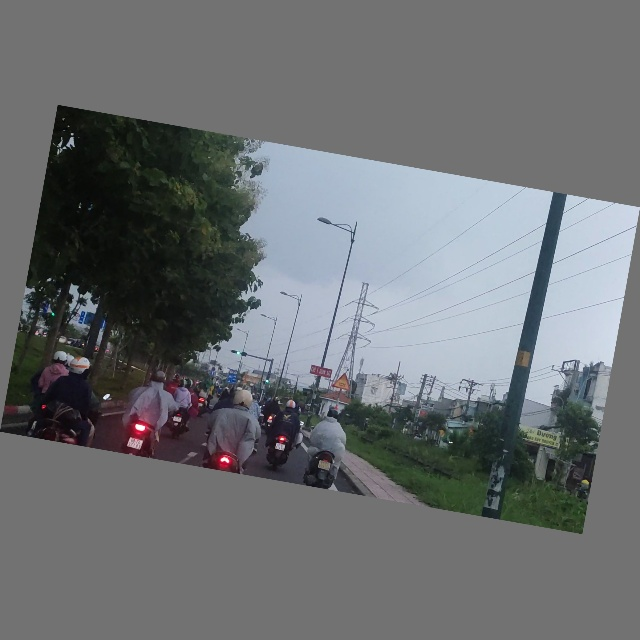W.210: (332, 372, 353, 392)
